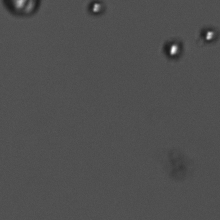Living Cell: (1, 1, 43, 18), (162, 36, 184, 63), (86, 1, 109, 18), (200, 24, 218, 45)
